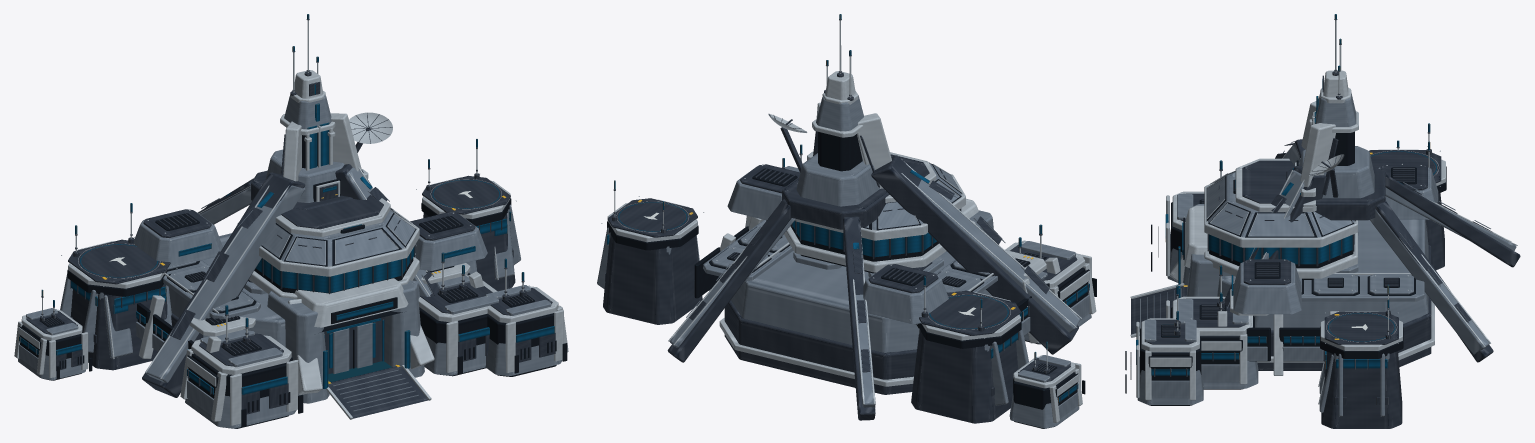
The model's file is building-command.fbx.
3 views of the same model, side by side, from view 1: azimuth 30°, elevation 25°; view 2: azimuth 150°, elevation 25°; view 3: azimuth 270°, elevation 25° (orthographic). The views are drawn at different scales.
Visible parts, largest first — view 1: building-command; view 2: building-command; view 3: building-command.
Boxes of the visible parts, box(x1,y1,x2,y2) form: building-command: box(14, 14, 568, 428); building-command: box(597, 14, 1096, 428); building-command: box(1125, 14, 1520, 428).
Bounding box in the file's own units: 3940 × 2542 × 2893.
1 material, 1 textured.
